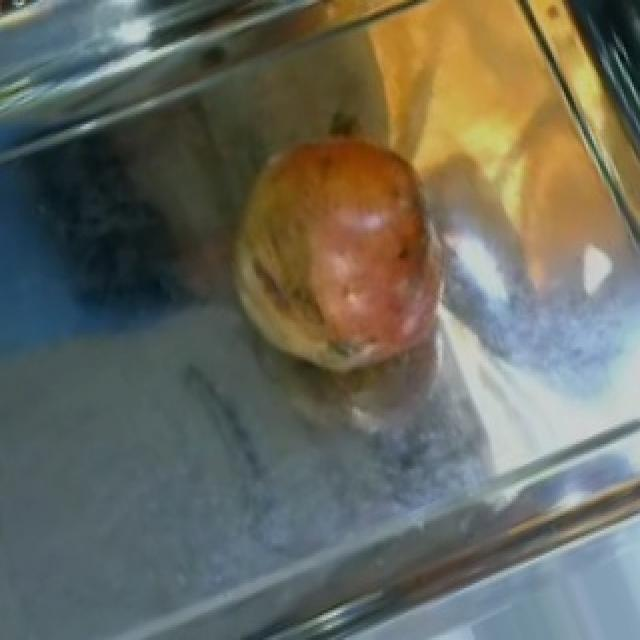fruit: (204, 99, 474, 375)
